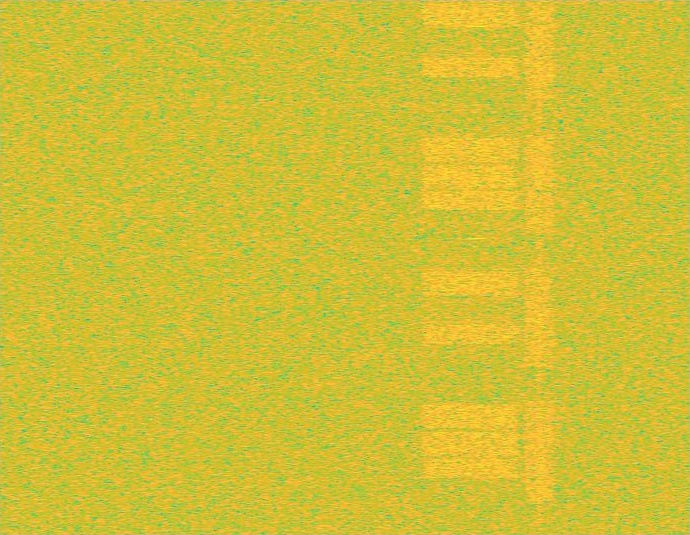5G: (522, 0, 557, 534)
DSSS: (537, 0, 542, 534)
LTE: (419, 0, 522, 534)
Radar: (470, 0, 484, 534)
